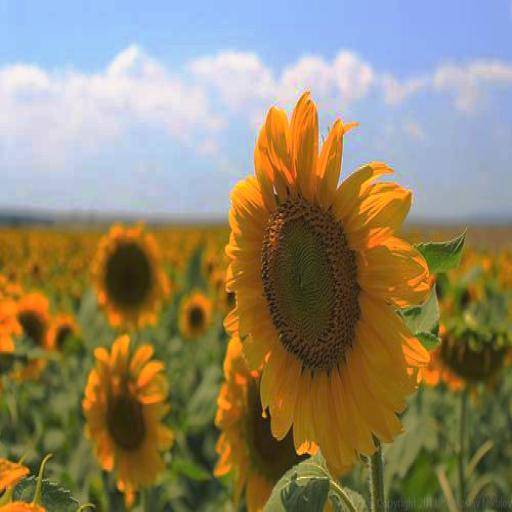sunflower: (224, 91, 434, 469), (80, 336, 174, 498), (88, 222, 169, 331)
